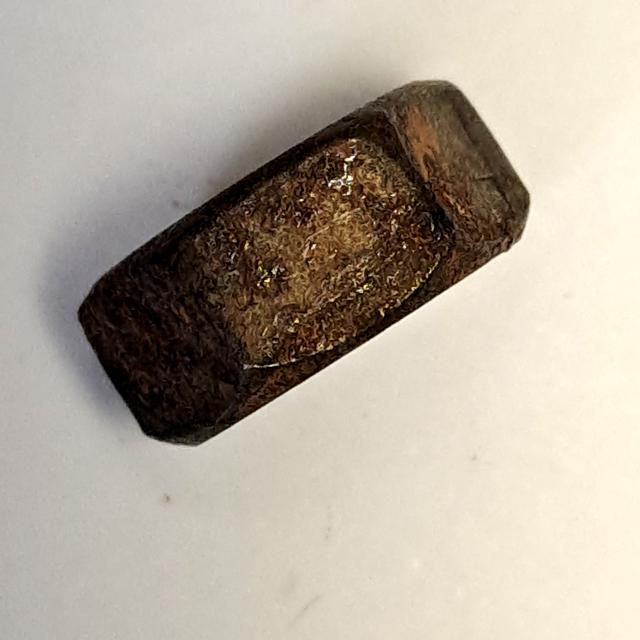Side_Rust: (59, 64, 550, 464)
